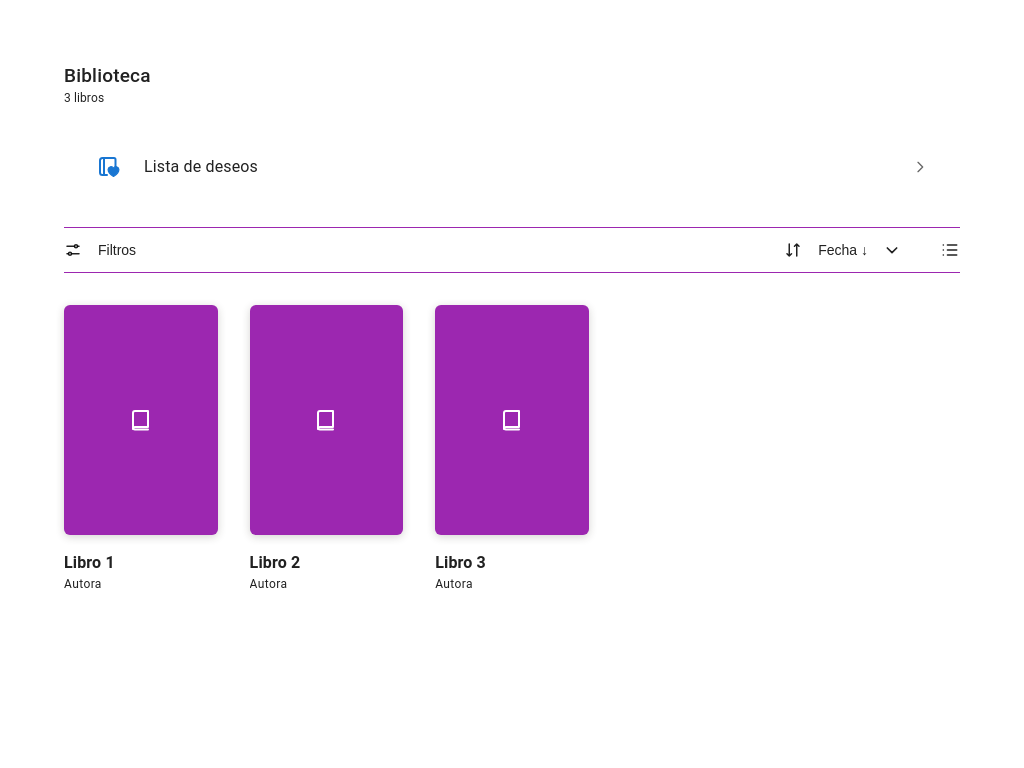
Test: Given the library page with order and filters › When the user taps a second tag › Then it replaces the first one, as the API takes a single tag
Click the button "Filtros": (100, 250) top-left (48, 228), bottom-right (152, 272)
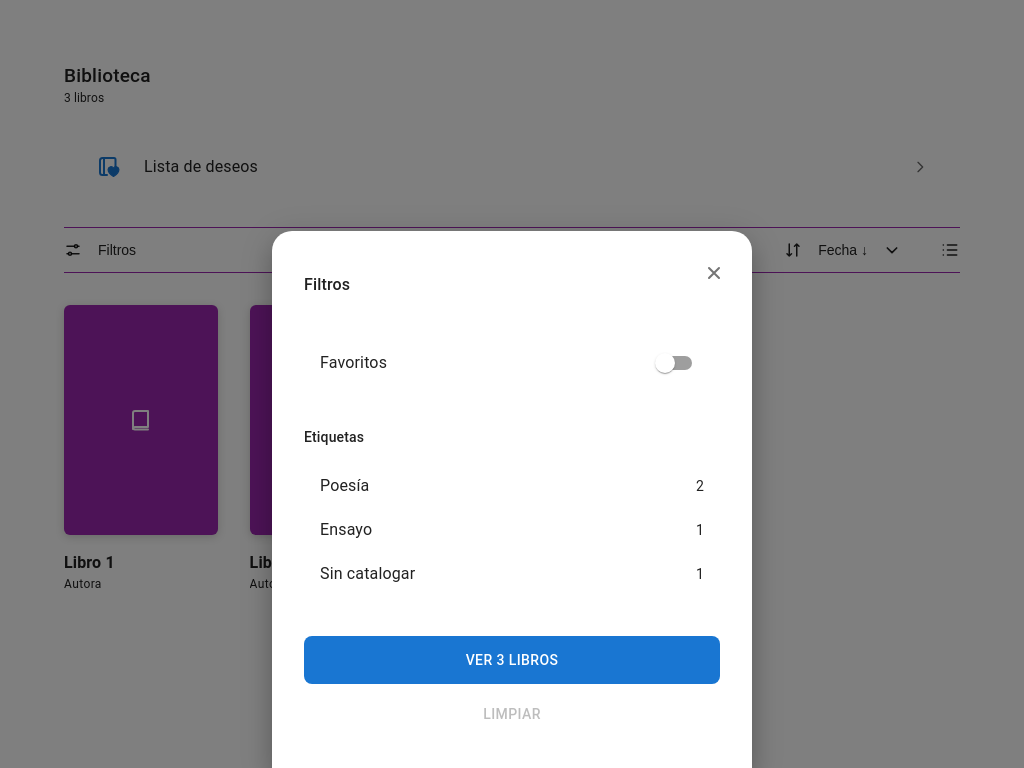
Click the button "Poesía 2": (345, 486) top-left (304, 464), bottom-right (720, 508)
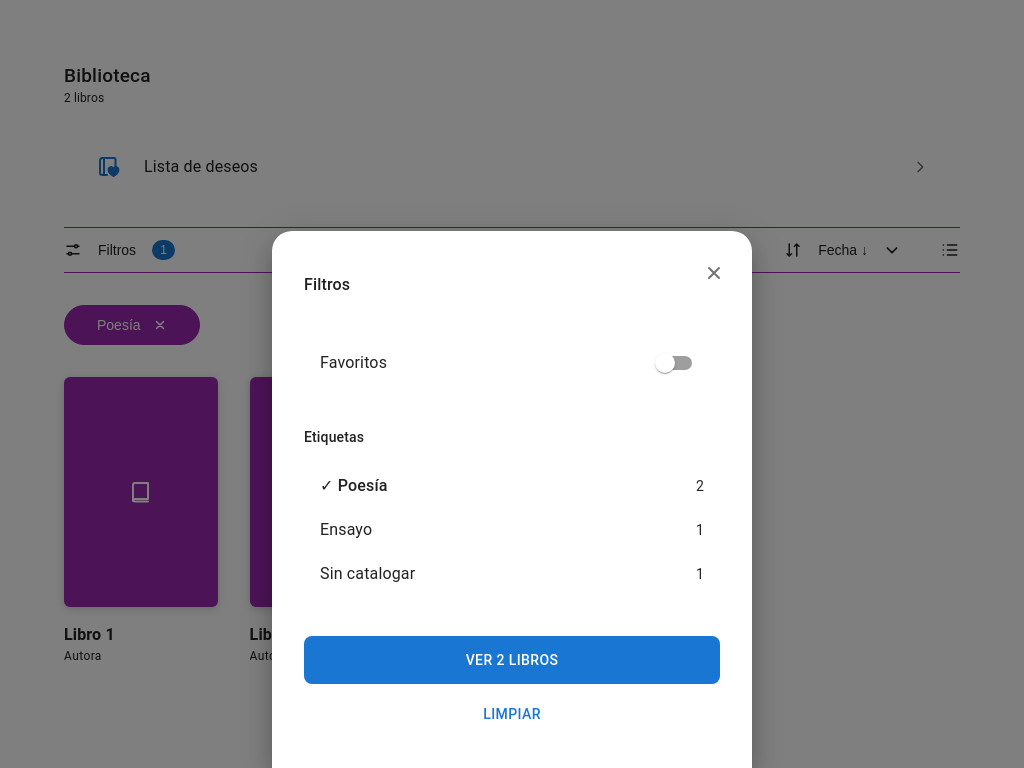
Click the button "Ensayo 1": (346, 530) top-left (304, 508), bottom-right (720, 552)
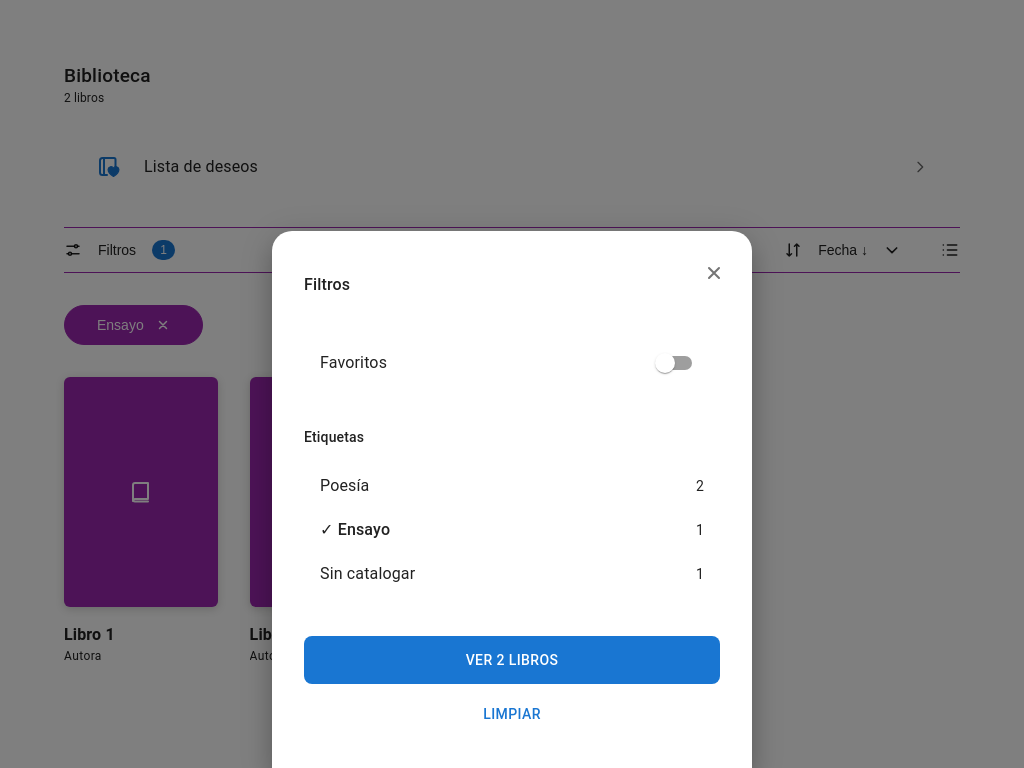
Result: the button "Ensayo" is shown at top-left (64, 305), bottom-right (203, 345)
